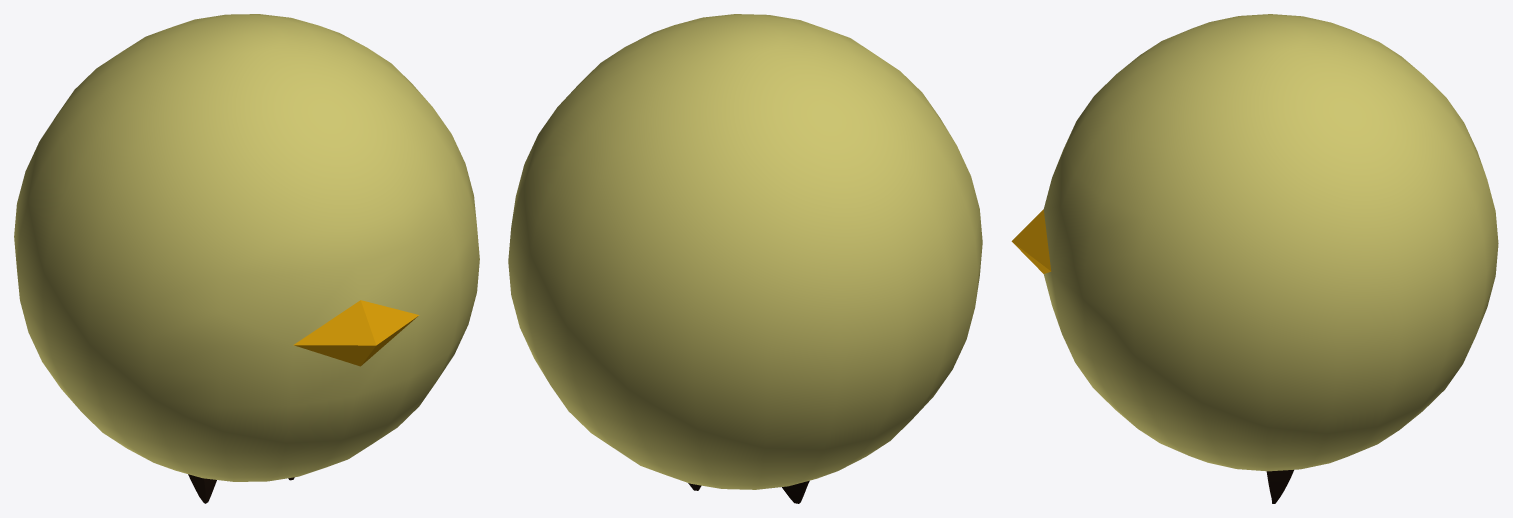
File: houdai_tama.fbx
3 views of the same model, side by side, from view 1: azimuth 30°, elevation 25°; view 2: azimuth 150°, elevation 25°; view 3: azimuth 270°, elevation 25° (orthographic). The views are drawn at different scales.
Visible parts, largest first — view 1: pSphere1; view 2: pSphere1; view 3: pSphere1.
Part boxes in pixels (box(x1,y1,x2,y2)): pSphere1: box(14, 14, 479, 503); pSphere1: box(508, 14, 982, 503); pSphere1: box(1011, 14, 1498, 503).
Bounding box in the file's own units: 73.87 × 79.4 × 78.61.
